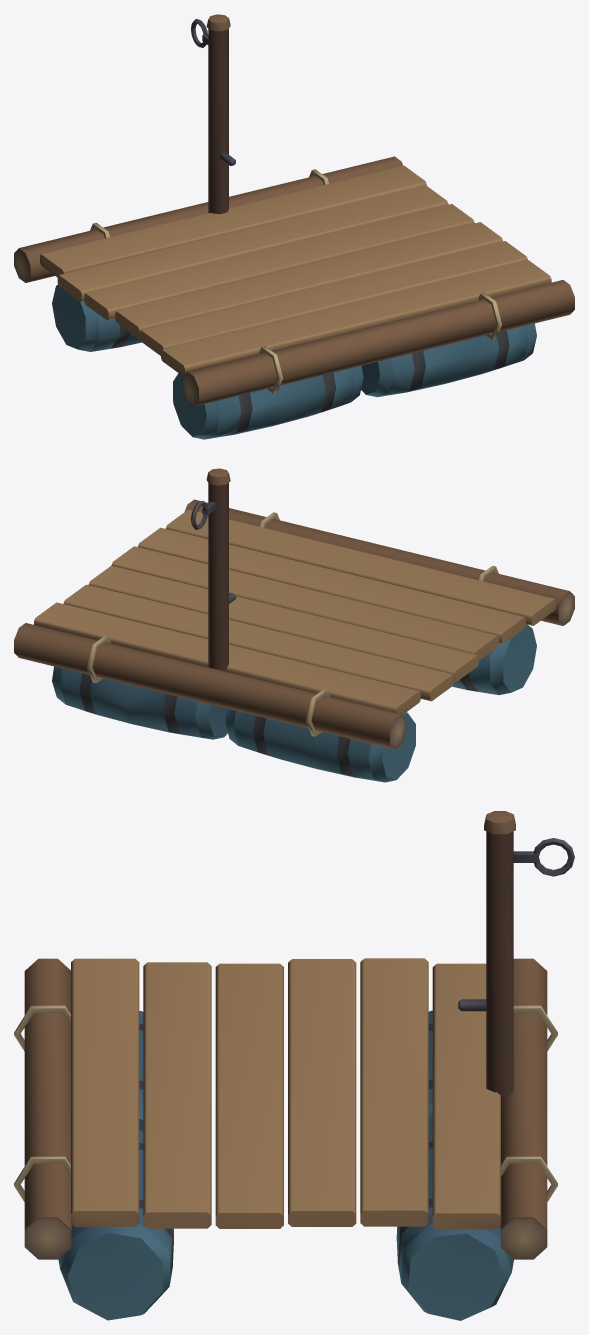
The model's file is Raft.fbx.
3 views of the same model, one above another, from view 1: azimuth 30°, elevation 25°; view 2: azimuth 150°, elevation 25°; view 3: azimuth 270°, elevation 25° (orthographic). The views are drawn at different scales.
Parts seen in each view (by area): view 1: Raft; view 2: Raft; view 3: Raft.
Boxes of the visible parts, box(x1,y1,x2,y2) form: Raft: box(14, 14, 574, 439); Raft: box(14, 468, 574, 782); Raft: box(14, 811, 574, 1320).
Bounding box in the file's own units: 2.08 × 1.5 × 1.89.
